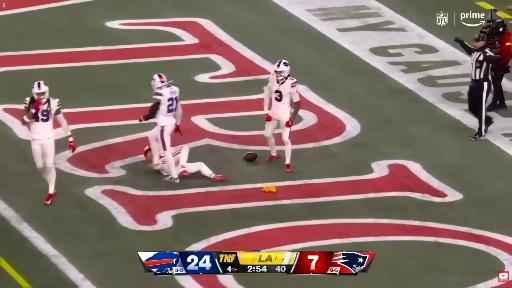Helmet: (273, 60, 290, 79), (32, 81, 49, 99), (152, 74, 169, 89), (144, 146, 152, 163)
Jersey: (30, 98, 60, 139), (268, 75, 299, 110), (153, 86, 179, 126)
Player: (22, 81, 76, 204), (140, 74, 182, 182), (264, 60, 300, 172), (172, 146, 227, 181)
